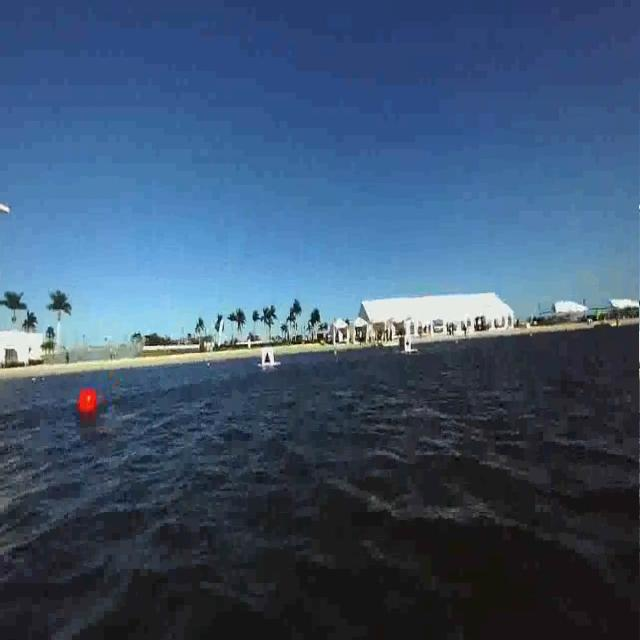red-buoy: (78, 386, 98, 416)
